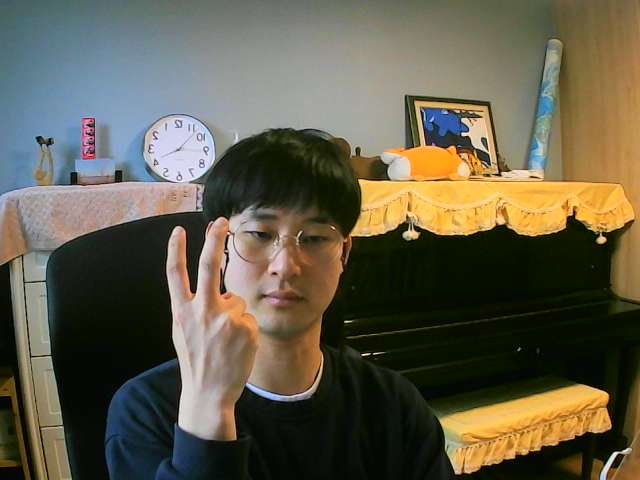two: (148, 204, 285, 423)
